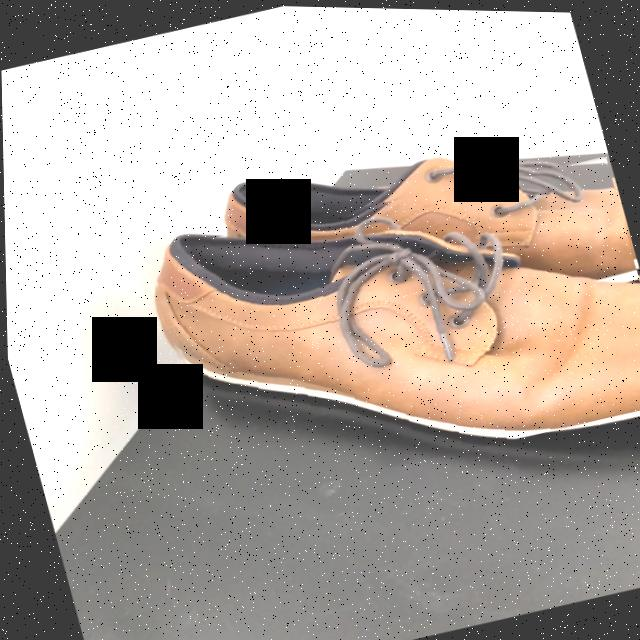shoe: (149, 237, 640, 432)
